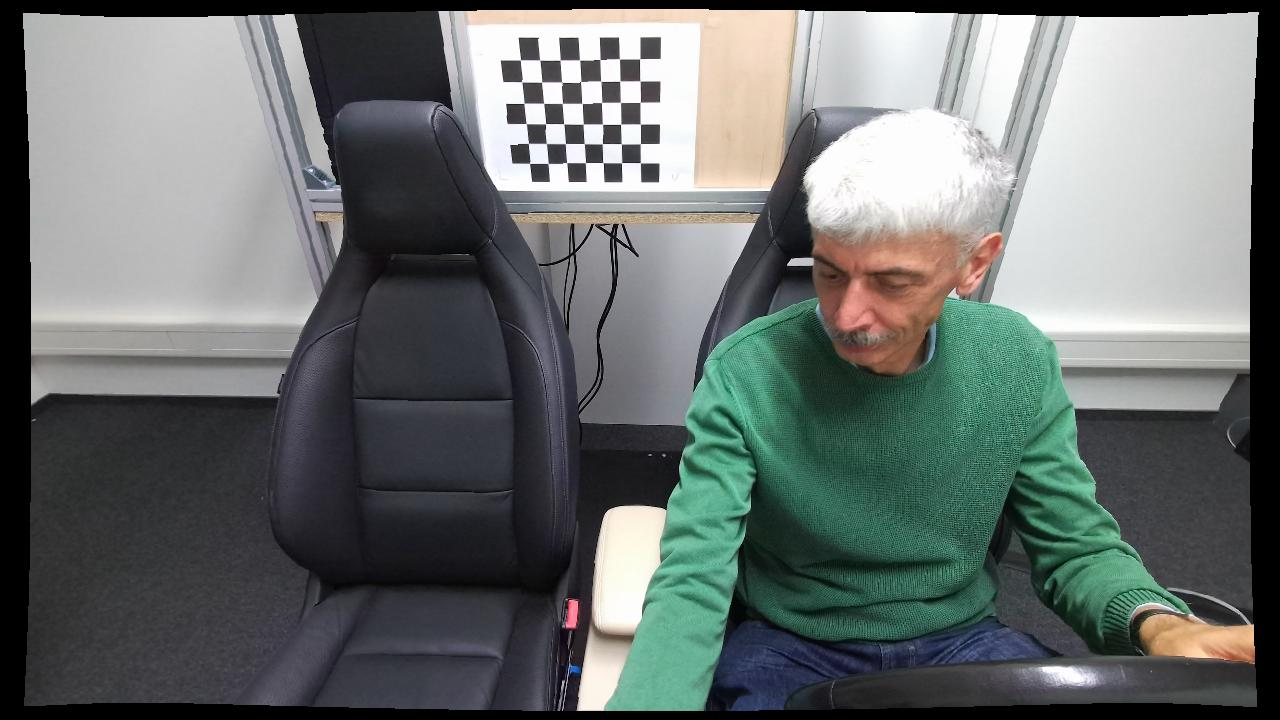Distracted: (603, 108, 1110, 709)
